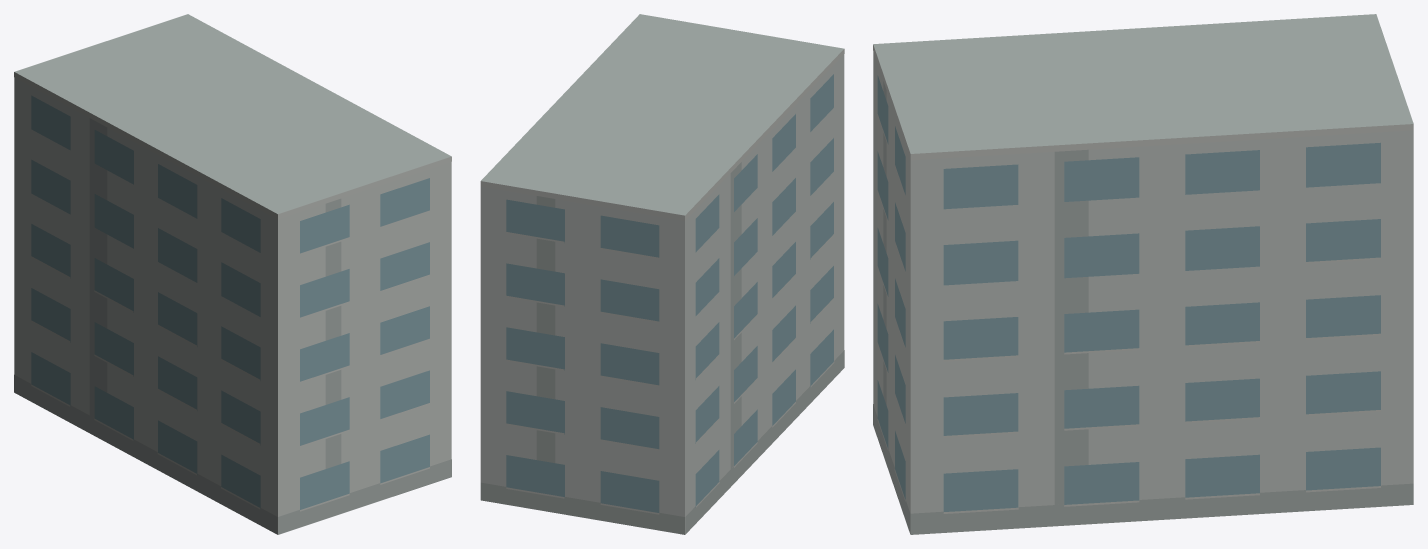
The model's file is survey-upis-32706989.glb.
3 views of the same model, side by side, from view 1: azimuth 30°, elevation 25°; view 2: azimuth 150°, elevation 25°; view 3: azimuth 270°, elevation 25° (orthographic). The views are drawn at different scales.
Visible parts, largest first — view 1: survey-upis-32706989.tmp; view 2: survey-upis-32706989.tmp; view 3: survey-upis-32706989.tmp.
Part boxes in pixels (x1,y1,x2,y2): survey-upis-32706989.tmp: (14,14,451,534); survey-upis-32706989.tmp: (480,14,844,534); survey-upis-32706989.tmp: (873,14,1413,534).
Bounding box in the file's own units: 11.52 × 14.6 × 18.79.
